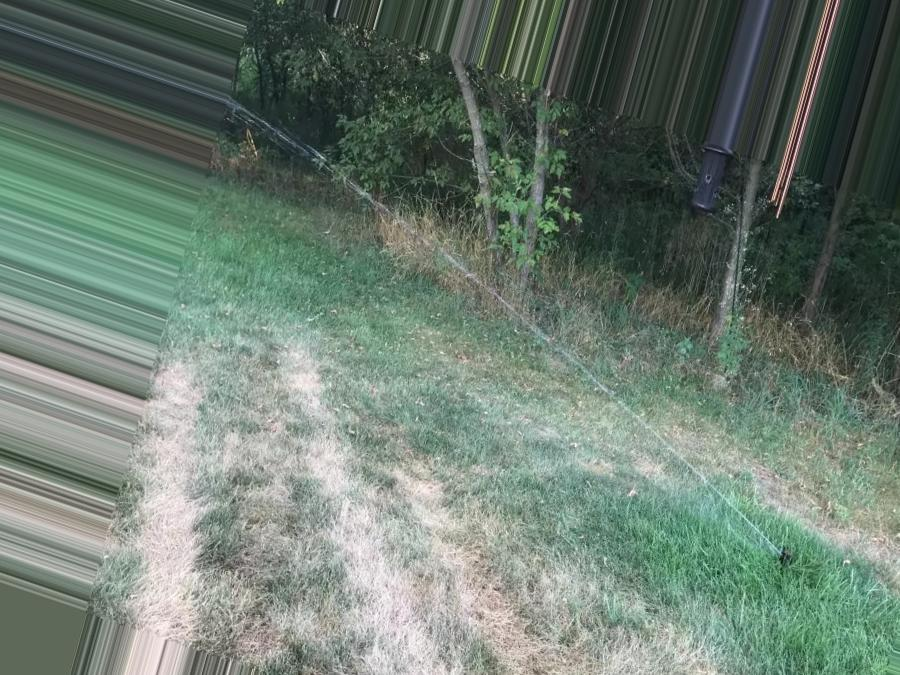patch: (289, 357, 393, 675), (482, 380, 745, 487), (393, 462, 536, 648), (157, 372, 194, 632), (141, 467, 165, 624)
